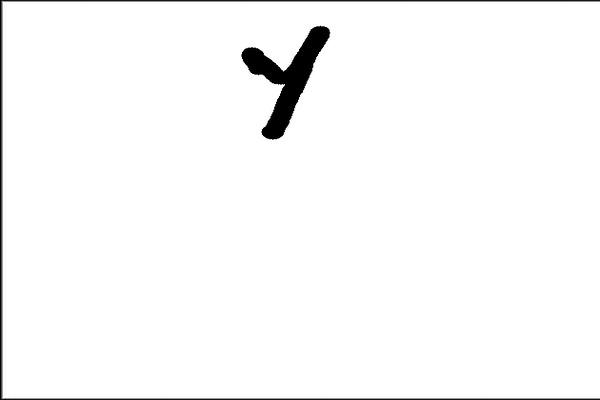Y: (231, 17, 338, 154)
